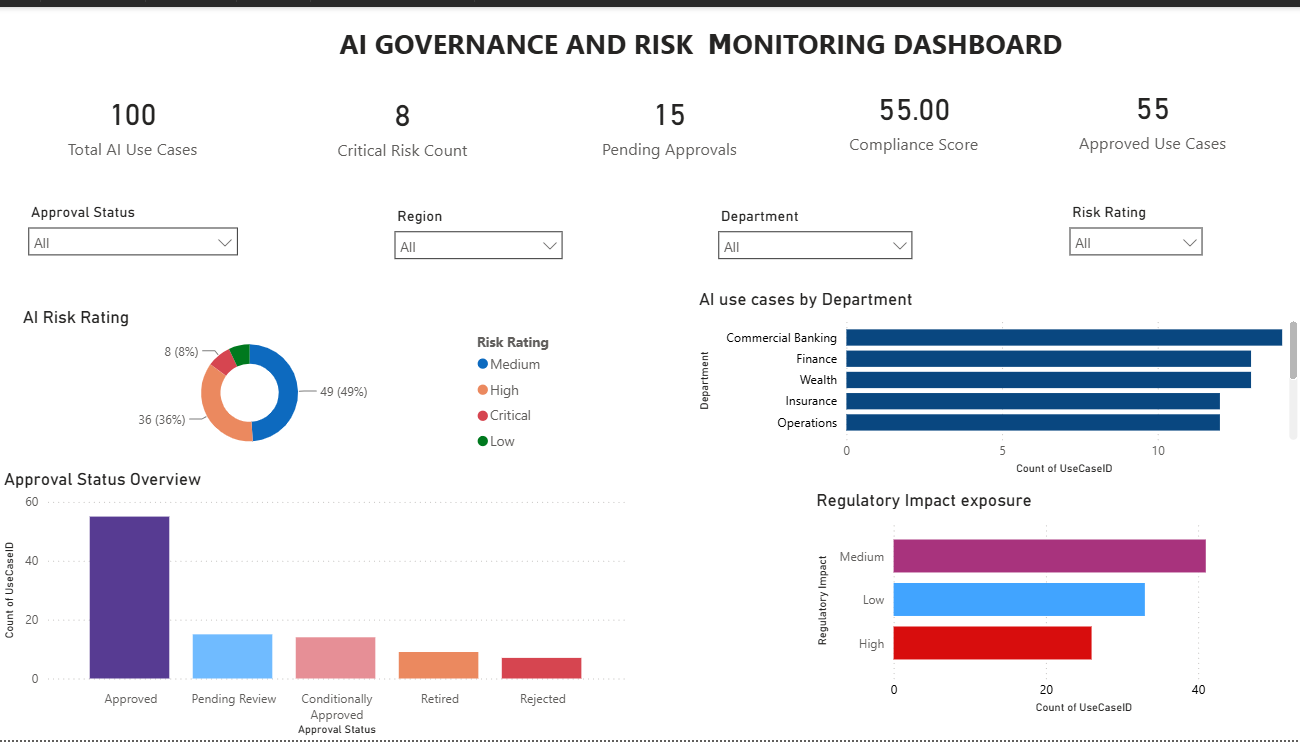

Layout of this report page (visuals, bound fields, positions):
{"tool":"powerbi","page":{"name":"Page 1","canvas":[1280,720],"ordinal":0},"visuals":[{"type":"card","fields":{"Values":["AI_Inventory.Total AI Use Cases"]},"box":[20.9,51.5,220.9,126.4],"z":0},{"type":"card","fields":{"Values":["AI_Inventory.Pending Approvals"]},"box":[550.9,57.7,214.7,114.1],"z":1000},{"type":"card","fields":{"Values":["AI_Inventory.Critical Risk Count"]},"box":[285.9,52.8,220.9,126.4],"z":2000},{"type":"card","fields":{"Values":["AI_Inventory.Approved Use Cases"]},"box":[1030.7,47.9,203.7,122.7],"z":3000},{"type":"card","fields":{"Values":["AI_Inventory.Compliance Score"]},"box":[809.8,47.9,176.7,123.9],"z":4000},{"type":"donutChart","title":"AI Risk Rating","fields":{"Category":["AI_Inventory.Risk Rating"],"Y":["CountNonNull(AI_Inventory.UseCaseID)"]},"box":[18.4,294.5,543.6,149.7],"z":5000},{"type":"clusteredBarChart","title":"AI use cases by Department","fields":{"Category":["AI_Inventory.Department"],"Y":["CountNonNull(AI_Inventory.UseCaseID)"]},"box":[682.2,276.1,597.5,187.7],"z":6000},{"type":"columnChart","title":"Approval Status Overview","fields":{"Category":["AI_Inventory.Approval Status"],"Y":["CountNonNull(AI_Inventory.UseCaseID)"]},"box":[0,452.3,620.1,267.4],"z":7000},{"type":"clusteredBarChart","title":" Regulatory Impact exposure","fields":{"Category":["AI_Inventory.Regulatory Impact"],"Y":["CountNonNull(AI_Inventory.UseCaseID)"]},"box":[797.9,473.6,466.5,224.7],"z":8000},{"type":"slicer","fields":{"Values":["AI_Inventory.Department"]},"box":[696.1,191.4,211,71.2],"z":9000},{"type":"slicer","fields":{"Values":["AI_Inventory.Risk Rating"]},"box":[1040.5,187.7,150.9,66.3],"z":10000},{"type":"slicer","fields":{"Values":["AI_Inventory.Region"]},"box":[377.5,191.4,185.3,71.2],"z":11000},{"type":"slicer","fields":{"Values":["AI_Inventory.Approval Status"]},"box":[18.4,187.7,225.8,77.3],"z":12000},{"type":"textbox","box":[98.2,12.3,1181.6,45.4],"z":12002}]}

Visuals, with their boxes in screenshot pixels (x1, y1, x2, y2), scaled from the page's 1280x720 canvas onto the 1300x747 screenshot:
card - AI_Inventory.Total AI Use Cases: (21,53,246,185)
card - AI_Inventory.Pending Approvals: (560,60,778,178)
card - AI_Inventory.Critical Risk Count: (290,55,515,186)
card - AI_Inventory.Approved Use Cases: (1047,50,1254,177)
card - AI_Inventory.Compliance Score: (822,50,1002,178)
"AI Risk Rating" donutChart: (19,306,571,461)
"AI use cases by Department" clusteredBarChart: (693,286,1299,481)
"Approval Status Overview" columnChart: (0,469,630,746)
" Regulatory Impact exposure" clusteredBarChart: (810,491,1284,724)
slicer - AI_Inventory.Department: (707,199,921,272)
slicer - AI_Inventory.Risk Rating: (1057,195,1210,264)
slicer - AI_Inventory.Region: (383,199,572,272)
slicer - AI_Inventory.Approval Status: (19,195,248,275)
textbox: (100,13,1299,60)
